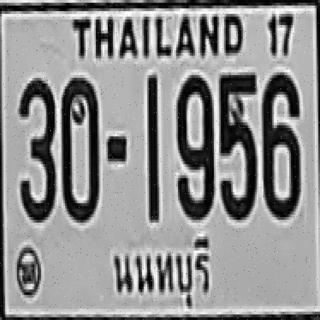N00: (61, 75, 98, 220)
N01: (146, 74, 158, 221)
N03: (17, 76, 55, 221)
N05: (217, 71, 255, 218)
N06: (261, 70, 299, 217)
N09: (176, 72, 212, 217)
P37: (106, 233, 218, 315)
